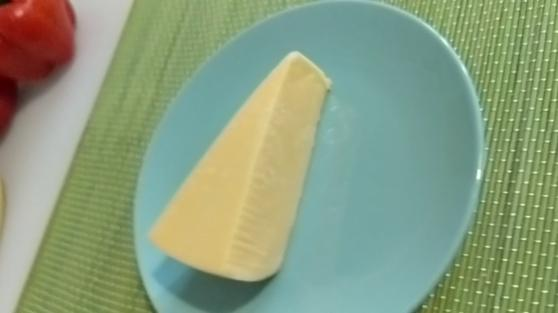cheese: (154, 52, 336, 288)
